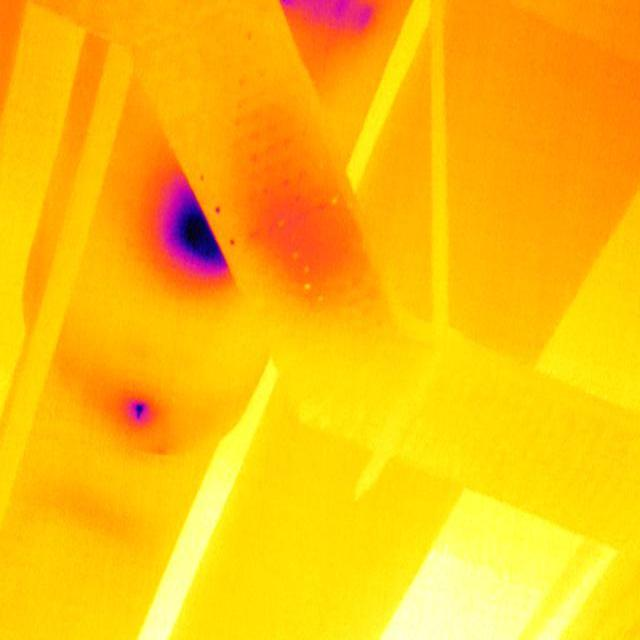leakage: (242, 141, 365, 306), (144, 175, 232, 287), (279, 0, 375, 34), (128, 392, 153, 429)
